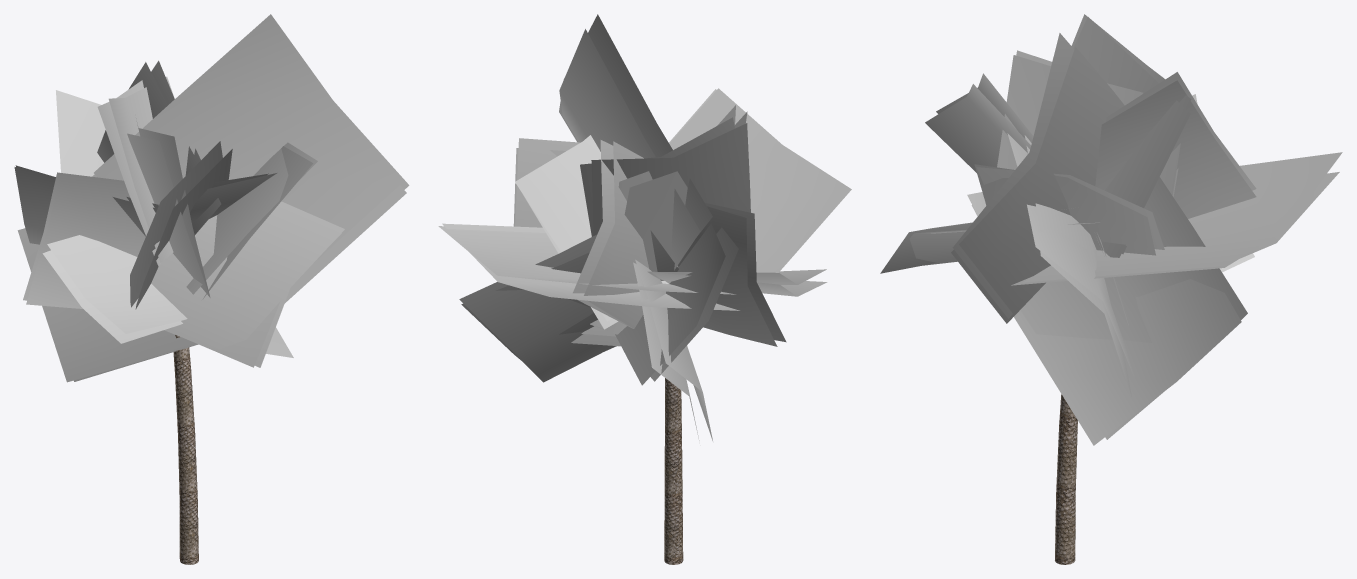
Rendered from palm_tree_11_LOD0.FBX.
3 views of the same model, side by side, from view 1: azimuth 30°, elevation 25°; view 2: azimuth 150°, elevation 25°; view 3: azimuth 270°, elevation 25° (orthographic). The views are drawn at different scales.
Visible parts, largest first — view 1: leaves009, bark; view 2: leaves009, bark; view 3: leaves009, bark.
Boxes of the visible parts, box(x1,y1,x2,y2) form: leaves009: box(14, 14, 409, 382); bark: box(173, 335, 198, 564); leaves009: box(438, 14, 851, 440); bark: box(664, 378, 683, 564); leaves009: box(880, 14, 1342, 445); bark: box(1055, 394, 1077, 564).
Size of the model in its own units: 11.47 by 13.86 by 18.82.
